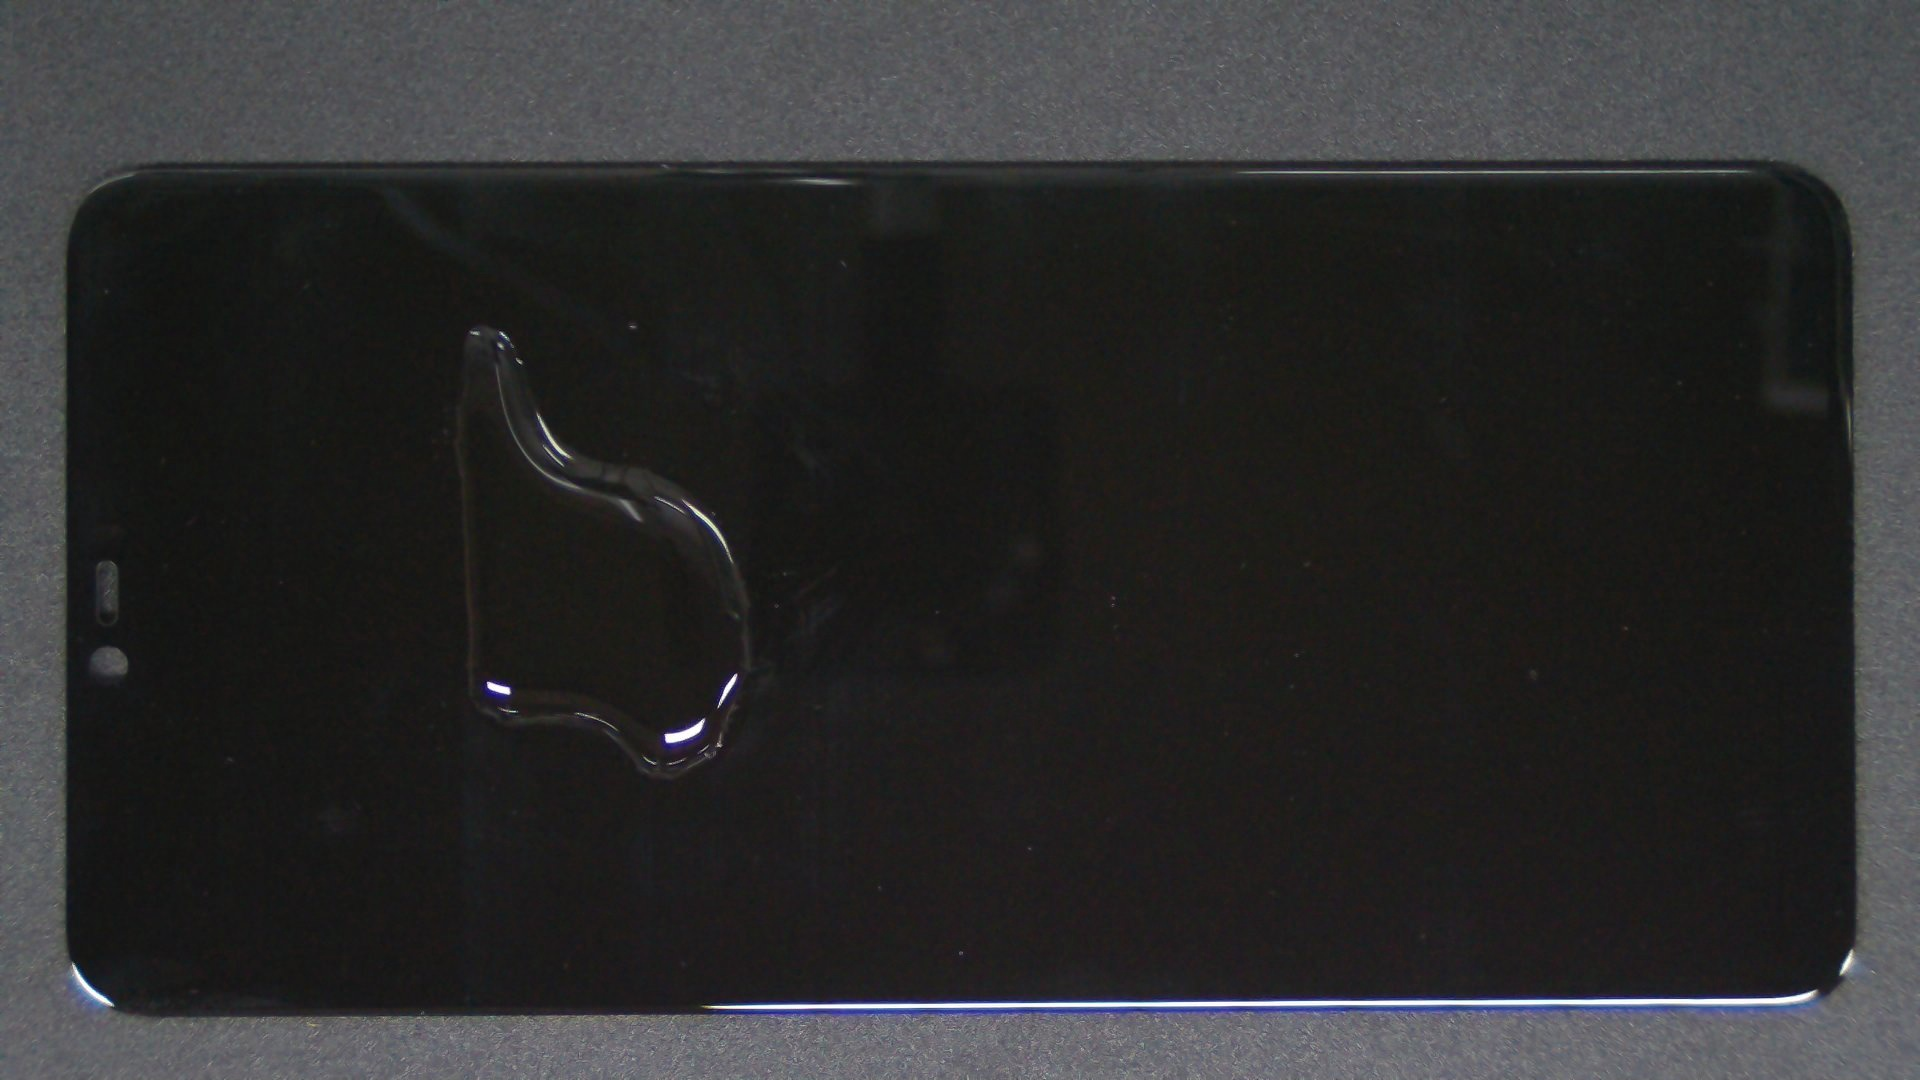oil: (240, 162, 716, 488)
